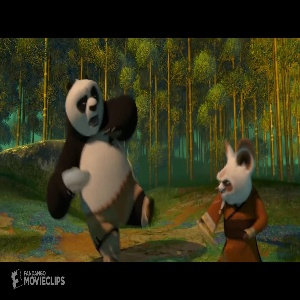po: (42, 76, 161, 262)
shifu: (200, 137, 268, 261)
